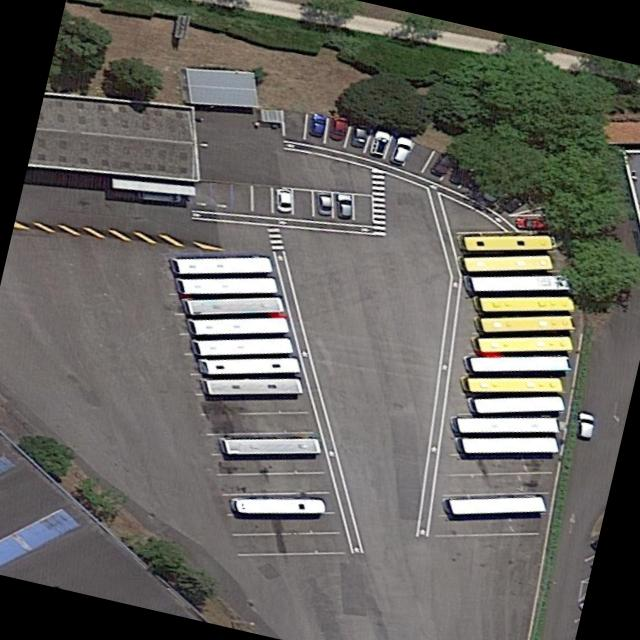large-vehicle: (463, 272, 573, 294), (472, 332, 575, 355), (463, 353, 573, 374), (189, 335, 293, 357), (187, 315, 290, 337), (452, 415, 561, 434), (461, 375, 563, 395), (443, 494, 545, 514), (474, 313, 576, 333), (473, 294, 575, 314), (458, 253, 554, 274), (466, 394, 566, 414), (170, 255, 273, 274), (457, 436, 559, 455), (219, 435, 321, 454), (457, 231, 557, 250), (199, 377, 304, 395), (197, 355, 301, 373), (228, 496, 328, 514), (180, 296, 285, 313), (175, 277, 278, 293)
small-vehicle: (388, 134, 414, 171), (447, 157, 474, 187), (369, 128, 392, 161), (430, 150, 457, 178), (481, 180, 509, 205), (329, 112, 350, 143), (575, 410, 595, 442), (138, 188, 182, 202), (350, 120, 371, 149), (500, 192, 526, 214), (274, 187, 293, 211), (338, 192, 353, 220), (515, 217, 547, 230), (310, 114, 326, 140), (317, 190, 332, 215)
